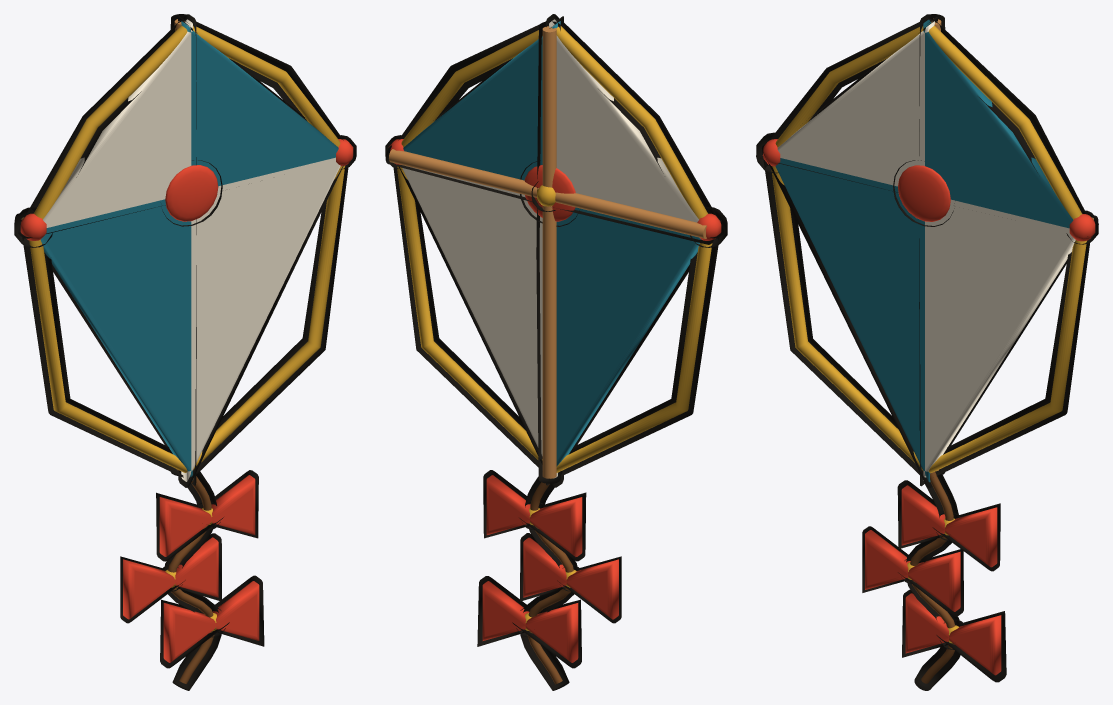
The model's file is kite.glb.
The picture shows the model from 3 angles, left to right: view 1: azimuth 30°, elevation 25°; view 2: azimuth 150°, elevation 25°; view 3: azimuth 330°, elevation 25°; orthographic projection.
Parts seen in each view (by area): view 1: Kite, Kite_outline; view 2: Kite, Kite_outline; view 3: Kite, Kite_outline.
Boxes of the visible parts, box(x1,y1,x2,y2) form: Kite: box(20, 19, 353, 683); Kite_outline: box(14, 14, 356, 690); Kite: box(388, 19, 721, 684); Kite_outline: box(385, 14, 727, 690); Kite: box(762, 18, 1095, 683); Kite_outline: box(756, 14, 1098, 690).
Bounding box in the file's own units: 1.65 × 3.15 × 0.2177.
